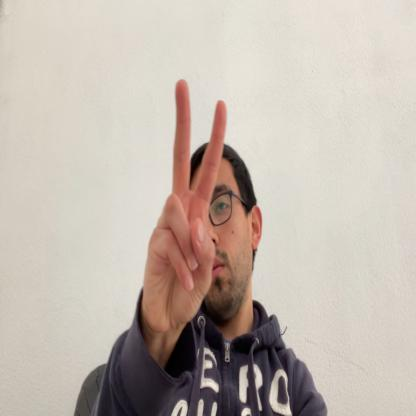V: (143, 77, 227, 337)
